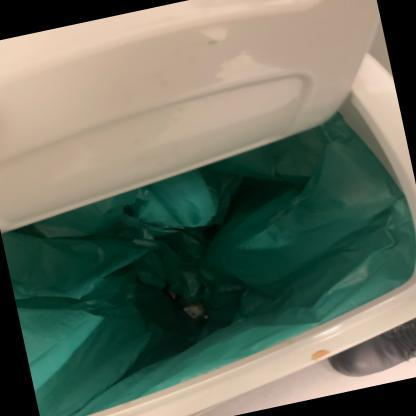Garbage: (4, 158, 409, 364)
